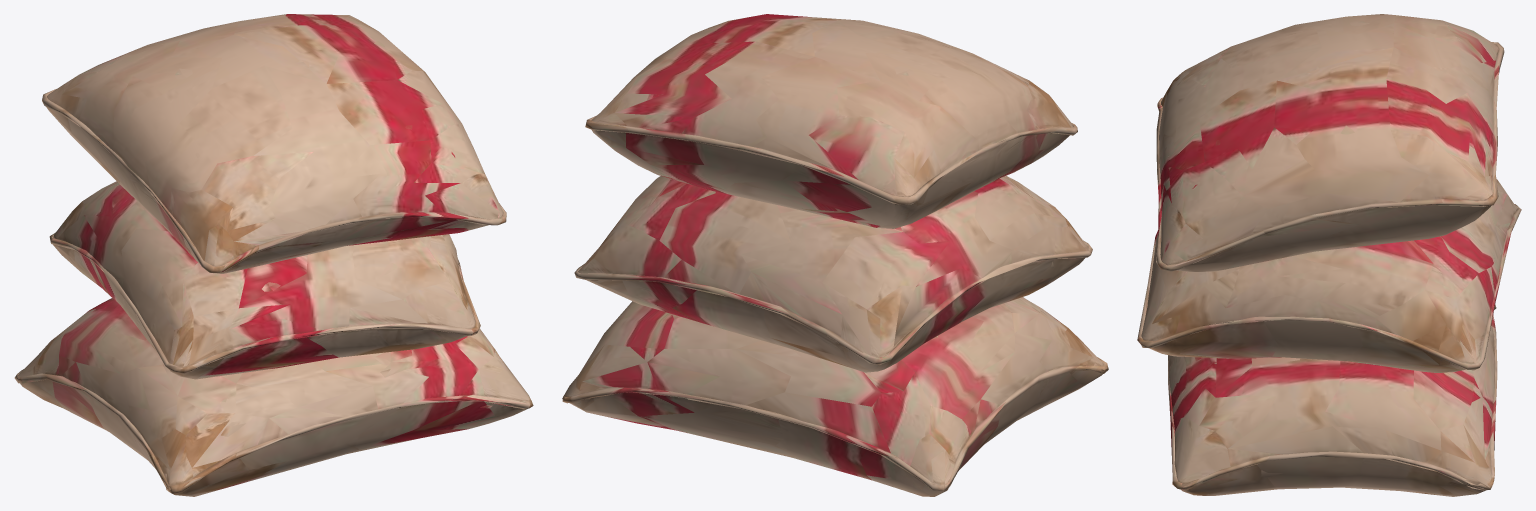
The model's file is sacks.glb.
3 renders of one model, left to right at view 1: azimuth 30°, elevation 25°; view 2: azimuth 150°, elevation 25°; view 3: azimuth 270°, elevation 25°, orthographic. The views are drawn at different scales.
Parts seen in each view (by area): view 1: Mesh0; view 2: Mesh0; view 3: Mesh0.
Boxes of the visible parts, box(x1,y1,x2,y2) form: Mesh0: box(14, 14, 533, 496); Mesh0: box(562, 14, 1108, 496); Mesh0: box(1137, 14, 1521, 496).
Size of the model in its own units: 1 by 0.9495 by 0.8994.
Materials: 1 (1 with a texture image).
